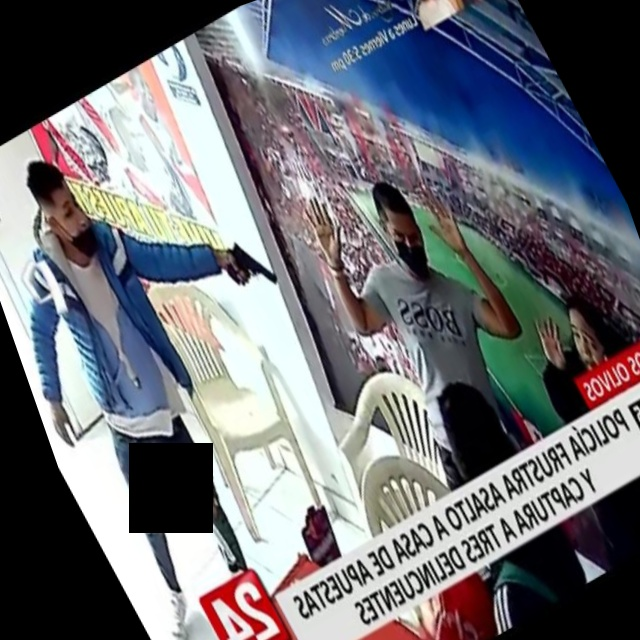gun: (199, 202, 294, 320)
